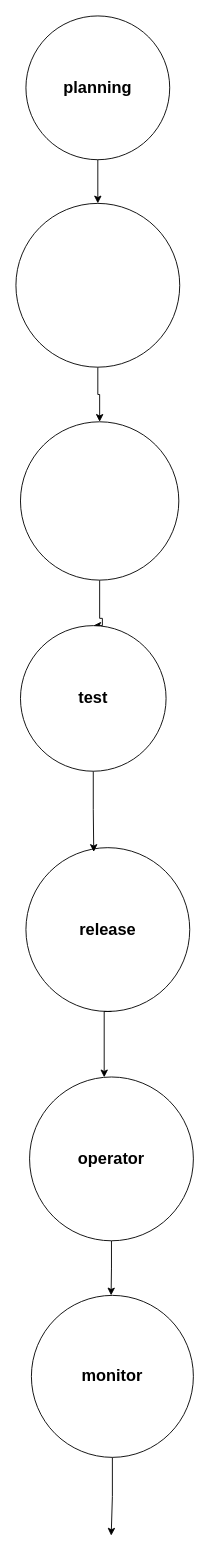
This 209x1559 diagram has some shape labels left out. Each missing label, with the centre of its shape:
"build" belongs at point 99,500.
"development" belongs at point 97,284.
